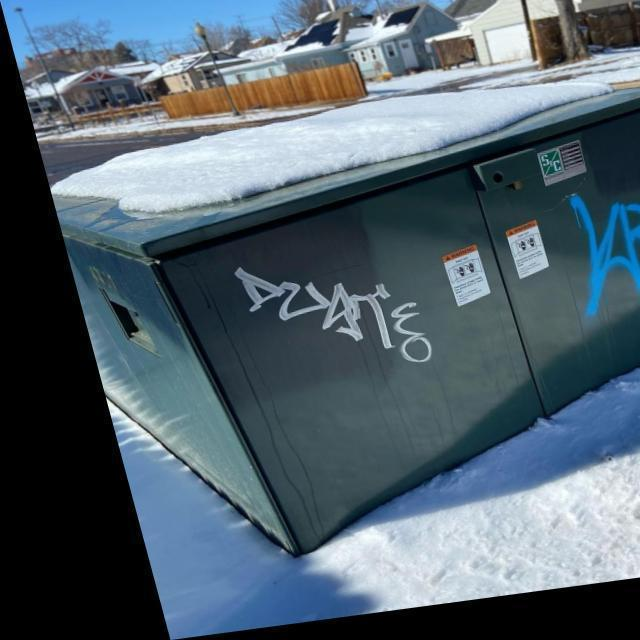nonspitting: (234, 266, 434, 368), (571, 193, 640, 320)
